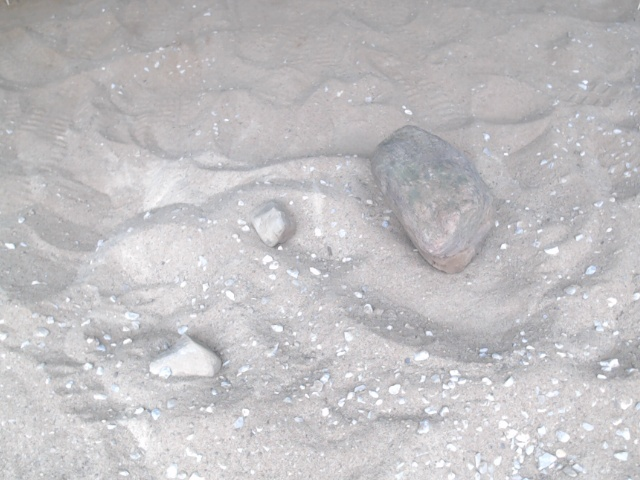rock: (362, 120, 500, 279), (144, 332, 228, 384), (245, 195, 298, 251)
